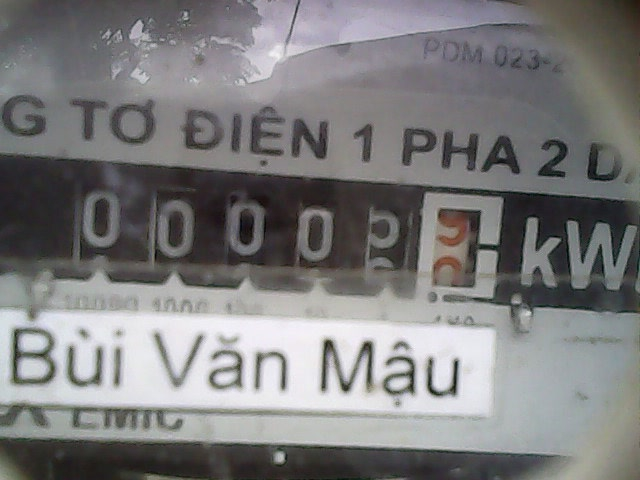phy_plate: (50, 158, 515, 314)
